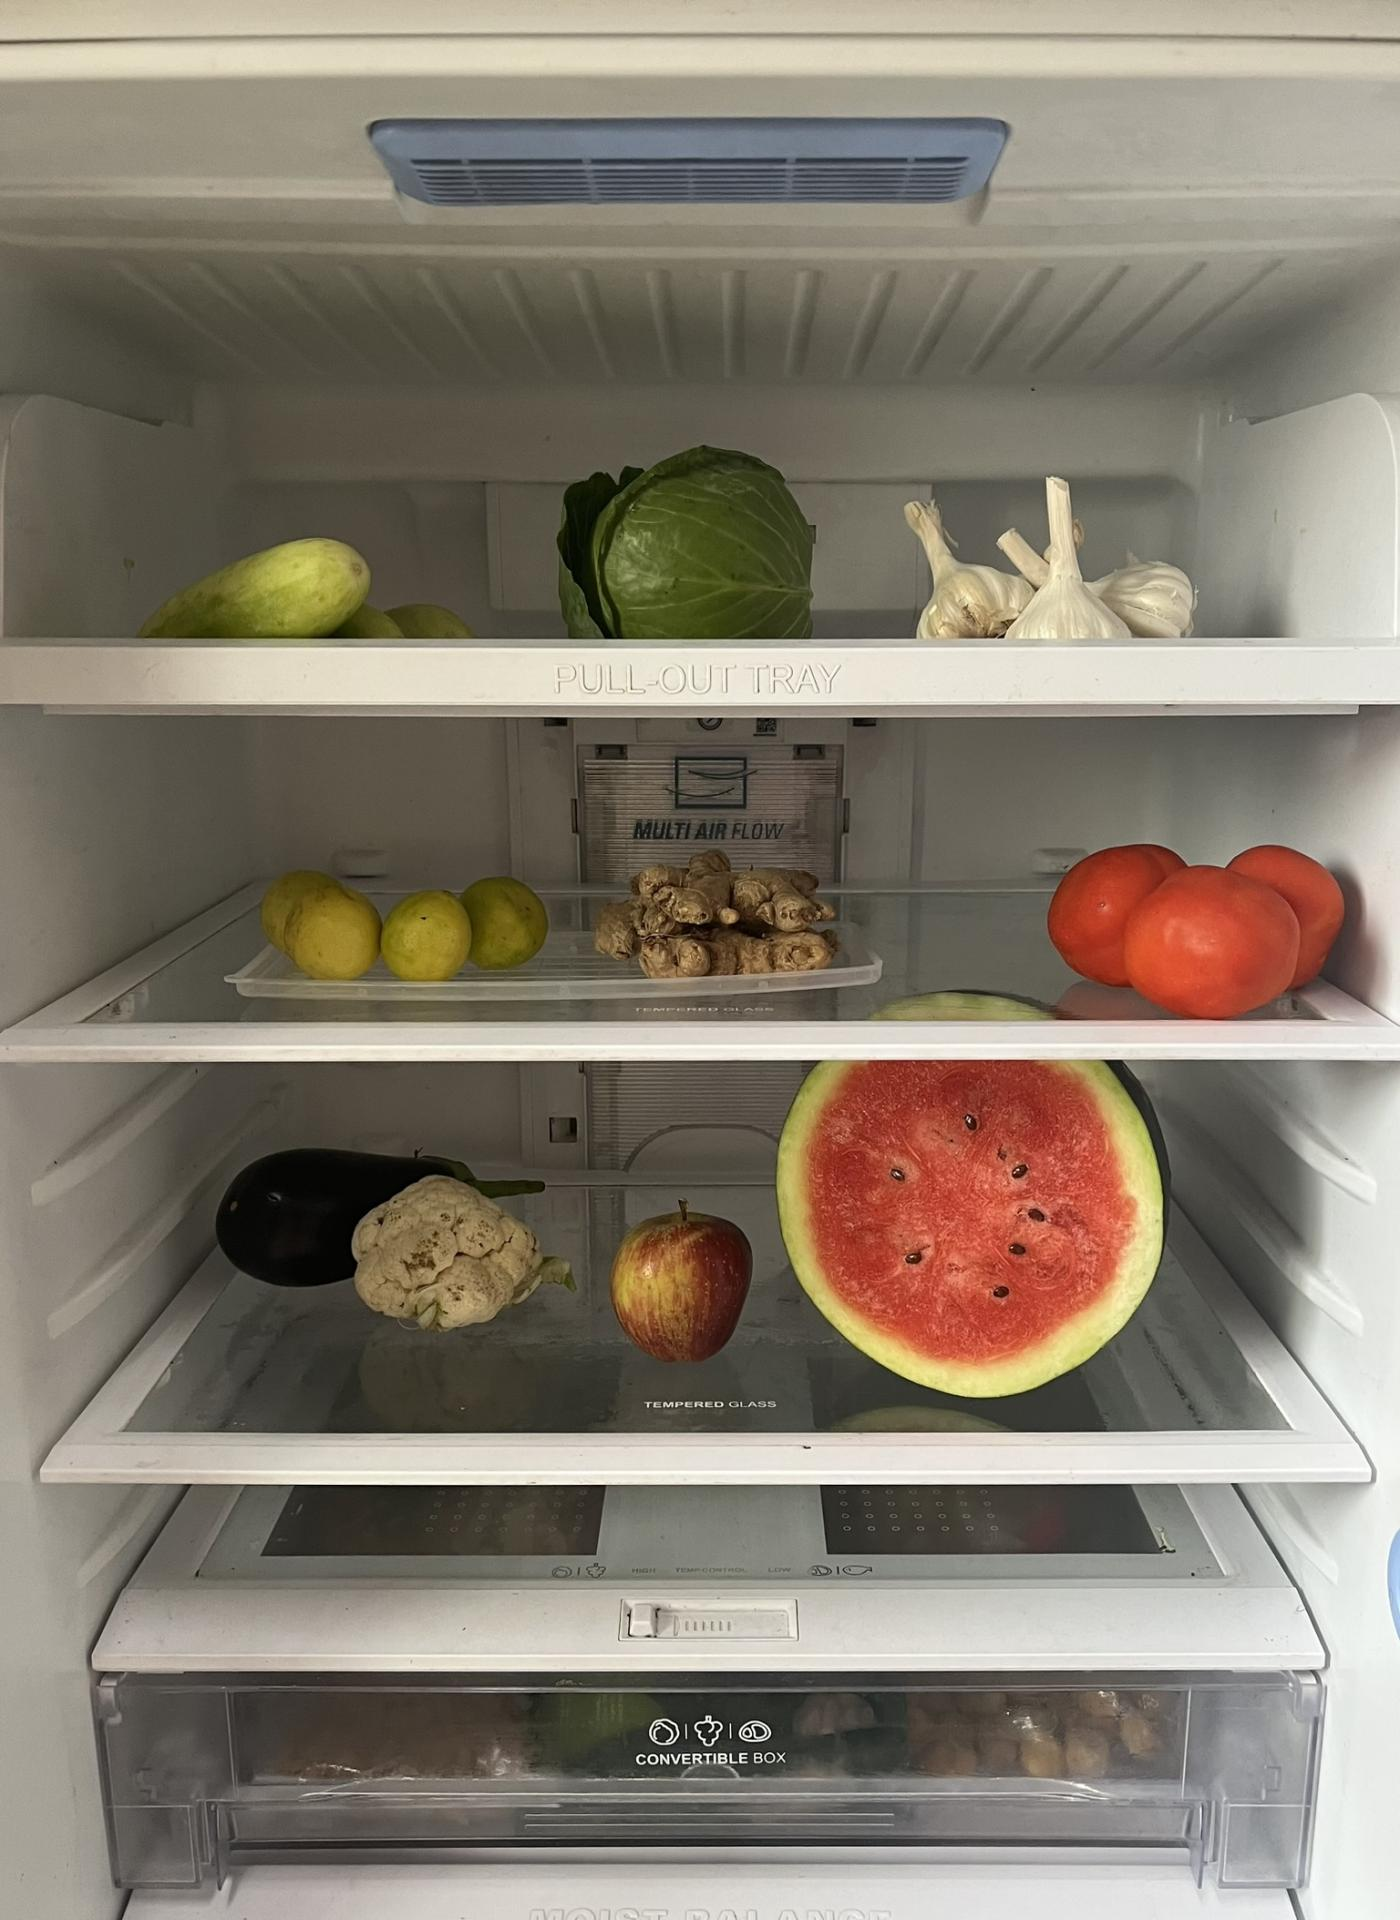apple: (613, 1197, 756, 1364)
cabbage: (556, 434, 820, 644)
cauliflower: (349, 1170, 549, 1333)
cucumber: (133, 534, 476, 638)
garlic: (896, 479, 1206, 638)
ginger: (596, 842, 847, 978)
lemon: (256, 866, 556, 981)
tomato: (1048, 835, 1345, 1018)
watermelon: (774, 988, 1178, 1400)
